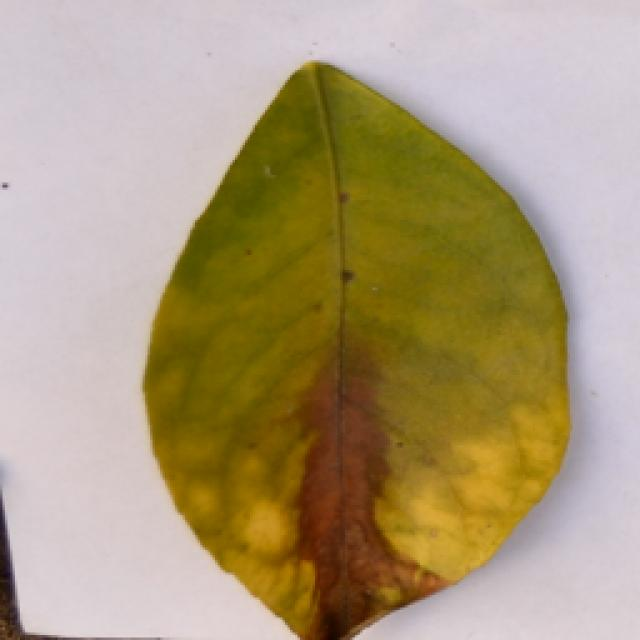canker: (139, 61, 571, 640)
